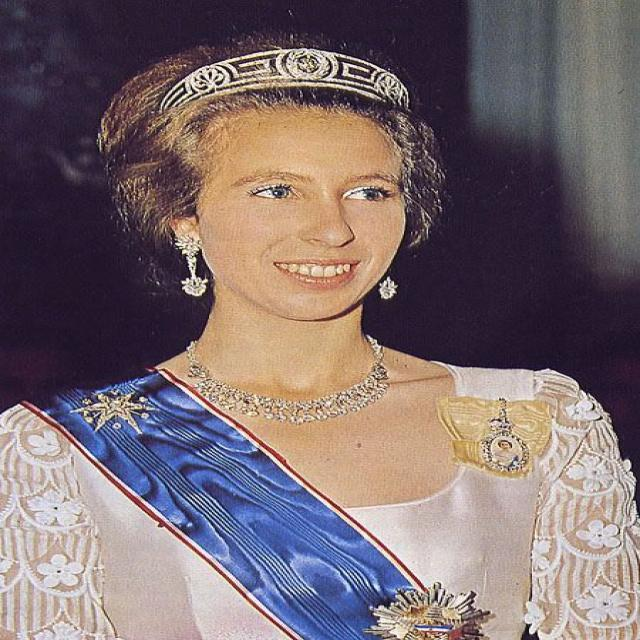Earring: (168, 212, 216, 308), (366, 263, 408, 305)
